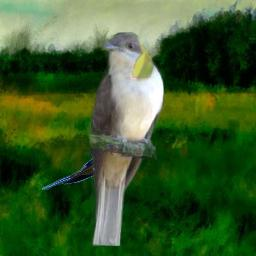Cuckoo: (86, 32, 164, 246)
Swallow: (41, 144, 119, 190)
